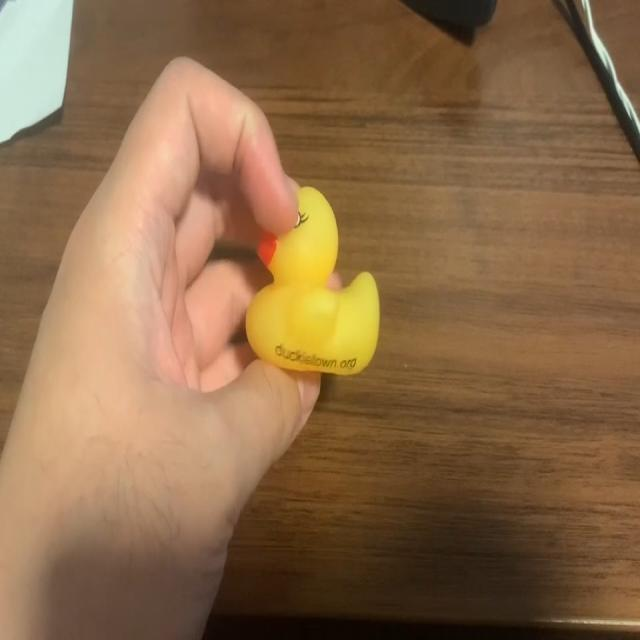rubber-duck: (245, 186, 378, 373)
